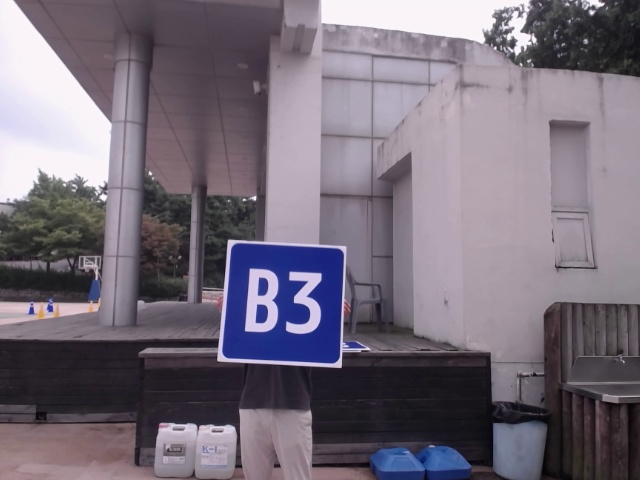delivery_b3: (220, 239, 346, 369)
